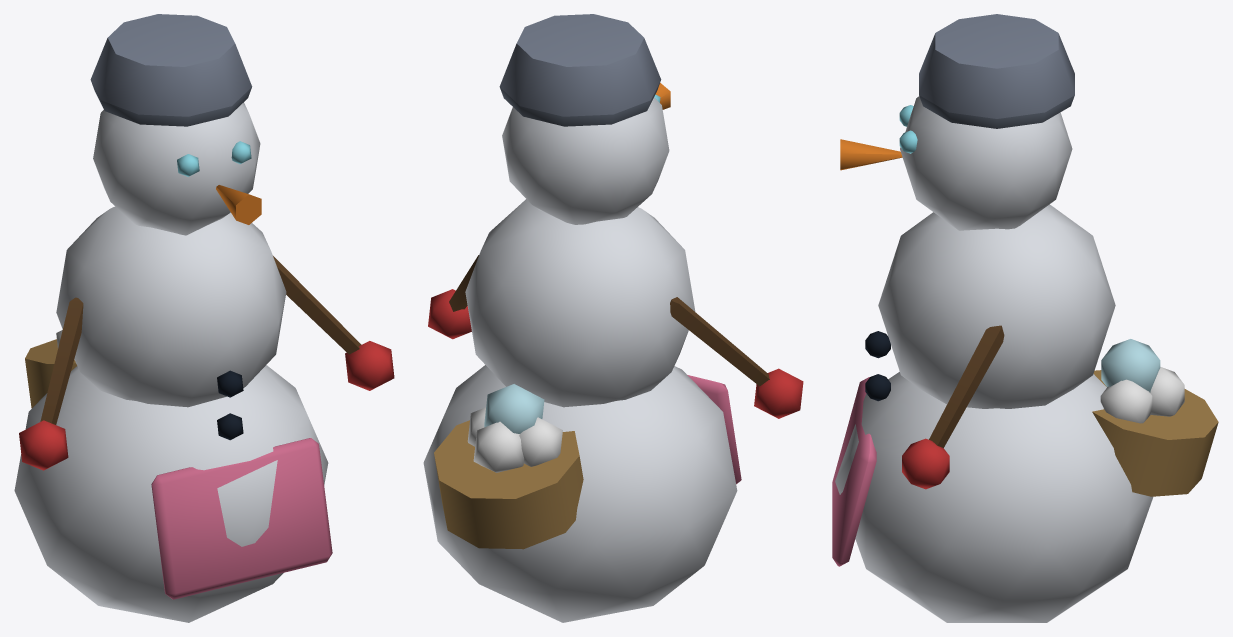
File: e_eis_schneemutter.glb
The picture shows the model from 3 angles, left to right: view 1: azimuth 30°, elevation 25°; view 2: azimuth 150°, elevation 25°; view 3: azimuth 270°, elevation 25°; orthographic projection.
Parts seen in each view (by area): view 1: body; view 2: body; view 3: body.
Part boxes in pixels (x1,y1,x2,y2): body: (14,14,394,622); body: (423,14,803,622); body: (832,14,1218,622).
Size of the model in its own units: 1.99 by 2.94 by 1.79.
